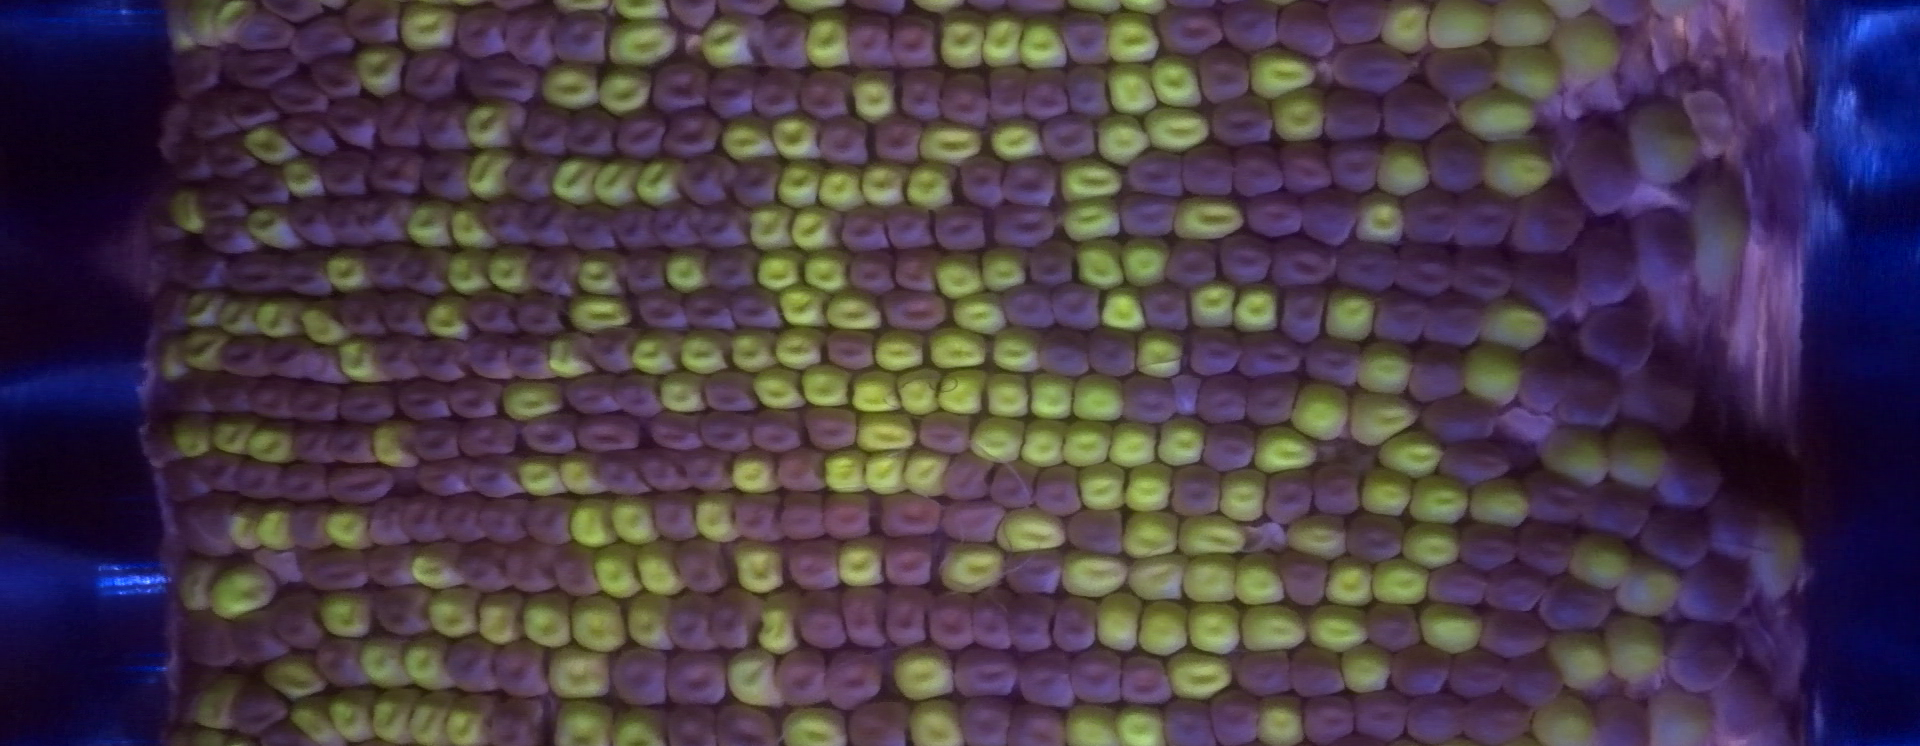fluorescent: (1696, 171, 1747, 299), (1629, 98, 1698, 186), (1749, 510, 1807, 608), (1483, 137, 1558, 201), (1553, 15, 1621, 83), (1538, 424, 1610, 488), (1607, 423, 1669, 496), (1608, 612, 1667, 686), (1566, 530, 1636, 589), (887, 649, 964, 702), (1482, 1, 1561, 51), (1289, 383, 1353, 446), (1180, 597, 1247, 657), (1458, 89, 1537, 140), (549, 647, 616, 704), (1495, 48, 1565, 103), (1091, 592, 1152, 654), (1550, 632, 1613, 693), (1351, 387, 1416, 446), (1379, 431, 1453, 481), (726, 646, 787, 706), (520, 589, 578, 653), (1467, 349, 1523, 414), (567, 249, 636, 301), (260, 649, 328, 702), (1478, 300, 1547, 353), (1151, 50, 1210, 111), (1534, 695, 1604, 746), (1146, 103, 1213, 156), (991, 510, 1067, 556), (606, 18, 675, 70), (1249, 45, 1318, 97), (1419, 600, 1483, 655), (702, 13, 760, 72), (1378, 1, 1438, 59), (1238, 605, 1310, 653), (212, 561, 273, 617), (1642, 692, 1706, 746), (1172, 197, 1249, 241), (463, 97, 522, 154), (1352, 190, 1411, 247), (396, 1, 463, 51), (1270, 85, 1326, 145), (573, 593, 629, 653), (1378, 136, 1433, 197), (1425, 1, 1491, 51), (1413, 475, 1473, 530), (1119, 505, 1180, 559), (1253, 429, 1322, 475), (405, 636, 460, 695), (1619, 563, 1679, 617), (1307, 606, 1374, 654), (1171, 650, 1236, 699), (1174, 516, 1250, 557), (1056, 196, 1122, 244), (1179, 552, 1236, 608), (1069, 239, 1127, 293), (1027, 365, 1081, 423), (244, 205, 309, 252), (1287, 514, 1352, 562), (1229, 559, 1289, 610), (940, 548, 1007, 594), (1229, 284, 1291, 334), (1064, 379, 1125, 429), (426, 583, 482, 637), (937, 11, 989, 69), (1139, 603, 1191, 660), (1119, 236, 1171, 295), (1362, 341, 1413, 399), (1220, 467, 1271, 526), (441, 695, 500, 746), (917, 118, 987, 160), (542, 62, 605, 110), (977, 241, 1030, 298), (313, 589, 377, 636), (552, 699, 616, 746), (1096, 113, 1153, 164), (242, 122, 304, 170), (1469, 483, 1531, 530), (1058, 551, 1128, 593), (480, 243, 534, 296), (800, 358, 853, 412), (736, 541, 790, 595), (403, 198, 459, 250), (1259, 688, 1309, 746), (855, 409, 918, 454), (408, 538, 467, 587), (1056, 159, 1127, 200), (497, 382, 568, 423), (628, 592, 676, 652), (1133, 331, 1189, 381), (863, 446, 913, 502), (1074, 465, 1131, 514), (1325, 283, 1373, 342), (786, 704, 853, 746), (816, 162, 868, 214), (924, 330, 993, 370), (718, 118, 774, 167), (1406, 521, 1462, 570), (1374, 559, 1430, 608), (1342, 644, 1398, 693), (876, 326, 933, 374), (972, 418, 1030, 465), (1119, 465, 1178, 512), (1123, 559, 1187, 601), (1108, 62, 1161, 114), (593, 157, 644, 209), (636, 546, 688, 598), (1108, 17, 1162, 67), (789, 201, 842, 251), (767, 111, 822, 160), (936, 367, 991, 416), (1160, 412, 1209, 467), (727, 454, 789, 499), (896, 364, 944, 420), (756, 597, 803, 653), (173, 559, 219, 616), (444, 202, 503, 247), (951, 292, 1011, 336), (369, 420, 420, 472), (693, 491, 744, 543), (478, 590, 522, 650), (467, 147, 517, 200), (1360, 469, 1414, 518), (589, 543, 638, 597), (1101, 287, 1156, 334), (806, 12, 851, 70), (332, 688, 377, 746), (853, 72, 905, 122), (1109, 416, 1160, 468), (354, 44, 403, 97), (744, 205, 797, 254), (835, 538, 889, 586), (598, 69, 654, 114), (849, 370, 905, 415), (1021, 17, 1070, 69), (906, 158, 958, 207), (1326, 556, 1375, 608), (195, 674, 241, 728), (910, 699, 964, 746), (552, 154, 598, 209), (982, 12, 1025, 70), (607, 499, 665, 541), (249, 419, 299, 468), (993, 322, 1041, 374), (409, 693, 456, 746), (367, 693, 414, 746), (1060, 706, 1120, 746), (830, 293, 891, 332), (774, 160, 824, 208), (519, 456, 571, 502), (568, 296, 640, 330), (629, 332, 682, 377), (613, 703, 669, 746), (860, 159, 907, 208), (337, 334, 386, 382), (901, 450, 949, 499), (574, 496, 622, 545), (448, 246, 495, 296), (983, 372, 1030, 423), (1191, 279, 1236, 332), (989, 120, 1044, 162), (820, 451, 869, 497), (682, 332, 733, 376), (556, 452, 607, 496), (801, 250, 853, 293), (658, 376, 711, 418), (1021, 421, 1068, 469), (289, 698, 336, 746), (729, 330, 779, 374), (660, 247, 713, 289), (546, 333, 599, 375), (1117, 706, 1171, 746), (749, 252, 804, 292), (933, 254, 983, 296), (369, 633, 407, 690), (326, 511, 380, 550), (170, 415, 217, 461), (324, 247, 370, 293), (640, 154, 678, 208), (757, 372, 803, 415), (1067, 421, 1109, 468), (779, 289, 827, 330), (255, 505, 295, 552), (779, 330, 828, 369), (207, 419, 257, 457), (182, 292, 224, 337), (258, 300, 304, 341), (231, 501, 264, 556), (284, 157, 327, 198), (425, 299, 468, 341), (216, 1, 257, 43), (171, 190, 207, 238), (300, 307, 349, 341), (189, 1, 223, 48), (220, 299, 257, 341), (160, 341, 189, 387), (189, 332, 220, 372), (620, 1, 675, 21), (780, 1, 849, 15)
nonfluorescent: (1572, 119, 1637, 212), (1663, 621, 1741, 691), (1629, 214, 1697, 292), (1578, 306, 1653, 376), (1515, 184, 1584, 254), (1679, 557, 1751, 621), (1580, 225, 1633, 300), (1521, 330, 1570, 412), (1642, 507, 1706, 570), (1713, 679, 1774, 744), (1384, 82, 1453, 137), (1513, 255, 1578, 314), (1742, 1, 1806, 60), (173, 609, 234, 669), (1665, 439, 1716, 508), (1427, 45, 1494, 97), (1427, 130, 1483, 191), (828, 647, 884, 708), (1539, 576, 1608, 626), (1411, 342, 1466, 404), (1434, 440, 1509, 485), (1707, 481, 1753, 554), (1561, 364, 1618, 423), (611, 648, 665, 709), (1266, 236, 1336, 283), (1338, 45, 1412, 89), (444, 636, 501, 692), (1300, 187, 1358, 243), (372, 583, 430, 638), (800, 581, 845, 650), (1502, 653, 1562, 706), (1288, 644, 1344, 699), (227, 685, 291, 733), (651, 58, 710, 110), (502, 7, 553, 67), (1368, 295, 1430, 344), (1155, 10, 1222, 55), (953, 648, 1016, 696), (1586, 695, 1649, 742), (1346, 511, 1402, 565), (1420, 398, 1498, 437), (667, 587, 713, 653), (1216, 232, 1270, 287), (503, 540, 557, 595), (669, 652, 724, 706), (749, 65, 802, 121), (672, 446, 736, 492), (677, 533, 724, 597), (1403, 190, 1461, 241), (496, 639, 547, 697), (315, 638, 372, 690), (229, 47, 300, 88), (1127, 148, 1185, 198), (1453, 522, 1513, 571), (1482, 565, 1544, 611), (1423, 293, 1477, 347), (1589, 489, 1644, 541), (1281, 4, 1337, 55), (1322, 88, 1380, 138), (1463, 189, 1513, 246), (659, 110, 719, 158), (1228, 145, 1282, 197), (1236, 331, 1298, 376), (1453, 250, 1510, 300), (176, 499, 227, 555), (880, 490, 940, 537), (1005, 590, 1052, 650), (1480, 608, 1540, 654), (1071, 650, 1125, 702), (1020, 657, 1074, 708), (1120, 650, 1171, 706), (1330, 245, 1396, 287), (1363, 601, 1420, 649), (1280, 549, 1326, 608), (1467, 695, 1531, 737), (1352, 687, 1404, 739), (553, 13, 607, 64), (1331, 141, 1381, 195), (1308, 336, 1362, 386), (278, 590, 322, 652), (1392, 646, 1447, 695), (233, 167, 289, 214), (703, 245, 759, 293), (708, 64, 754, 121), (290, 17, 353, 60), (468, 55, 534, 96), (358, 195, 418, 239), (517, 107, 571, 156), (844, 13, 891, 69), (1222, 2, 1278, 49), (1450, 652, 1506, 698), (1212, 685, 1259, 741), (1162, 238, 1220, 283), (938, 450, 996, 495), (885, 584, 927, 647), (971, 588, 1013, 650), (1196, 371, 1247, 423), (787, 538, 838, 589), (883, 535, 933, 587), (776, 650, 828, 701), (1042, 111, 1095, 160), (225, 249, 278, 298), (760, 16, 808, 70), (1397, 246, 1451, 294), (1070, 507, 1124, 555), (1213, 100, 1273, 143), (996, 205, 1057, 246), (849, 581, 888, 646), (403, 51, 460, 96), (885, 289, 948, 330), (306, 548, 369, 588), (818, 120, 868, 170), (873, 116, 924, 165), (366, 148, 425, 191), (420, 149, 471, 198), (1000, 159, 1052, 208), (1262, 472, 1311, 523), (801, 66, 853, 114), (1179, 148, 1232, 196), (680, 156, 733, 202), (1248, 371, 1294, 425), (942, 72, 987, 127), (931, 206, 988, 249), (931, 593, 973, 650), (1060, 13, 1109, 64), (170, 47, 220, 96), (1204, 423, 1254, 472), (1201, 49, 1249, 100), (958, 156, 1005, 207), (1310, 464, 1358, 516), (524, 496, 576, 544), (1408, 693, 1460, 741), (716, 590, 760, 646), (216, 333, 272, 376), (230, 619, 287, 661), (1119, 194, 1177, 235), (1173, 465, 1220, 517), (236, 10, 295, 50), (399, 245, 447, 294), (527, 249, 576, 296), (1011, 544, 1060, 592), (566, 109, 616, 156), (921, 409, 971, 456), (732, 494, 779, 544), (287, 202, 338, 247), (804, 404, 856, 450), (943, 501, 1000, 541), (560, 538, 598, 599), (1035, 463, 1078, 517), (849, 706, 907, 745), (591, 454, 647, 496), (419, 100, 467, 148), (1282, 141, 1330, 189), (1040, 328, 1087, 376), (1527, 473, 1575, 521), (329, 104, 378, 151), (459, 548, 508, 594), (456, 9, 506, 54), (1005, 281, 1056, 326), (1190, 328, 1240, 374), (1122, 379, 1172, 424), (838, 207, 889, 251), (1029, 236, 1073, 288), (901, 67, 944, 120), (365, 241, 408, 294), (1283, 283, 1322, 341), (328, 465, 389, 502), (1427, 567, 1485, 605), (894, 13, 934, 69), (656, 202, 711, 243), (507, 154, 553, 202), (513, 292, 561, 338), (588, 326, 636, 372), (732, 160, 781, 206), (227, 86, 277, 130), (1247, 194, 1303, 233), (579, 410, 636, 450), (1052, 282, 1103, 325), (415, 334, 467, 377), (1522, 526, 1576, 566), (318, 149, 364, 197), (613, 205, 661, 250), (310, 55, 359, 99), (1053, 597, 1096, 647), (638, 289, 689, 331), (1237, 652, 1293, 690), (343, 2, 396, 43), (284, 115, 337, 156), (884, 206, 937, 246), (460, 416, 518, 453), (1330, 1, 1384, 40), (485, 197, 531, 243), (1089, 325, 1134, 371), (279, 461, 324, 507), (989, 461, 1035, 507), (378, 100, 422, 148), (827, 491, 871, 539), (962, 697, 1007, 745), (204, 216, 266, 250), (616, 374, 665, 416), (449, 382, 504, 420), (749, 409, 800, 451), (413, 416, 459, 461), (468, 292, 516, 334), (468, 456, 522, 494), (369, 499, 407, 552), (279, 251, 328, 293), (364, 545, 414, 586), (338, 380, 393, 416), (524, 205, 576, 244), (721, 708, 778, 744), (684, 288, 730, 332), (1142, 284, 1187, 330), (651, 412, 699, 453), (707, 372, 756, 413), (700, 409, 749, 450), (444, 491, 485, 540), (1164, 703, 1213, 744), (640, 453, 691, 492), (564, 377, 620, 413), (1022, 69, 1065, 114), (331, 423, 376, 465), (1305, 695, 1351, 737), (267, 334, 313, 376), (986, 66, 1022, 119), (571, 208, 618, 249), (731, 287, 779, 327), (827, 327, 874, 367), (467, 334, 516, 374), (400, 492, 440, 541), (615, 118, 665, 156), (403, 380, 453, 418), (384, 294, 429, 337), (509, 338, 553, 381), (217, 371, 260, 415), (1011, 709, 1067, 744), (200, 176, 245, 218), (784, 492, 824, 539), (176, 249, 224, 288), (525, 413, 573, 452), (655, 492, 694, 540), (191, 89, 225, 143), (378, 337, 418, 383), (253, 382, 300, 421), (487, 703, 535, 741), (162, 461, 211, 497), (896, 249, 939, 290), (486, 497, 527, 541), (849, 252, 894, 292), (704, 209, 752, 246), (340, 293, 382, 334), (331, 201, 371, 244), (291, 421, 334, 462), (231, 457, 276, 496), (271, 81, 327, 111), (669, 707, 714, 745), (1070, 65, 1106, 113), (174, 375, 220, 410), (418, 462, 471, 492), (212, 134, 253, 173), (782, 450, 822, 491), (152, 281, 185, 330), (173, 134, 207, 180), (293, 386, 339, 420), (291, 505, 320, 557), (627, 254, 665, 292), (198, 450, 236, 488), (309, 345, 344, 386), (1600, 1, 1651, 27), (260, 2, 323, 22), (671, 1, 713, 29)
